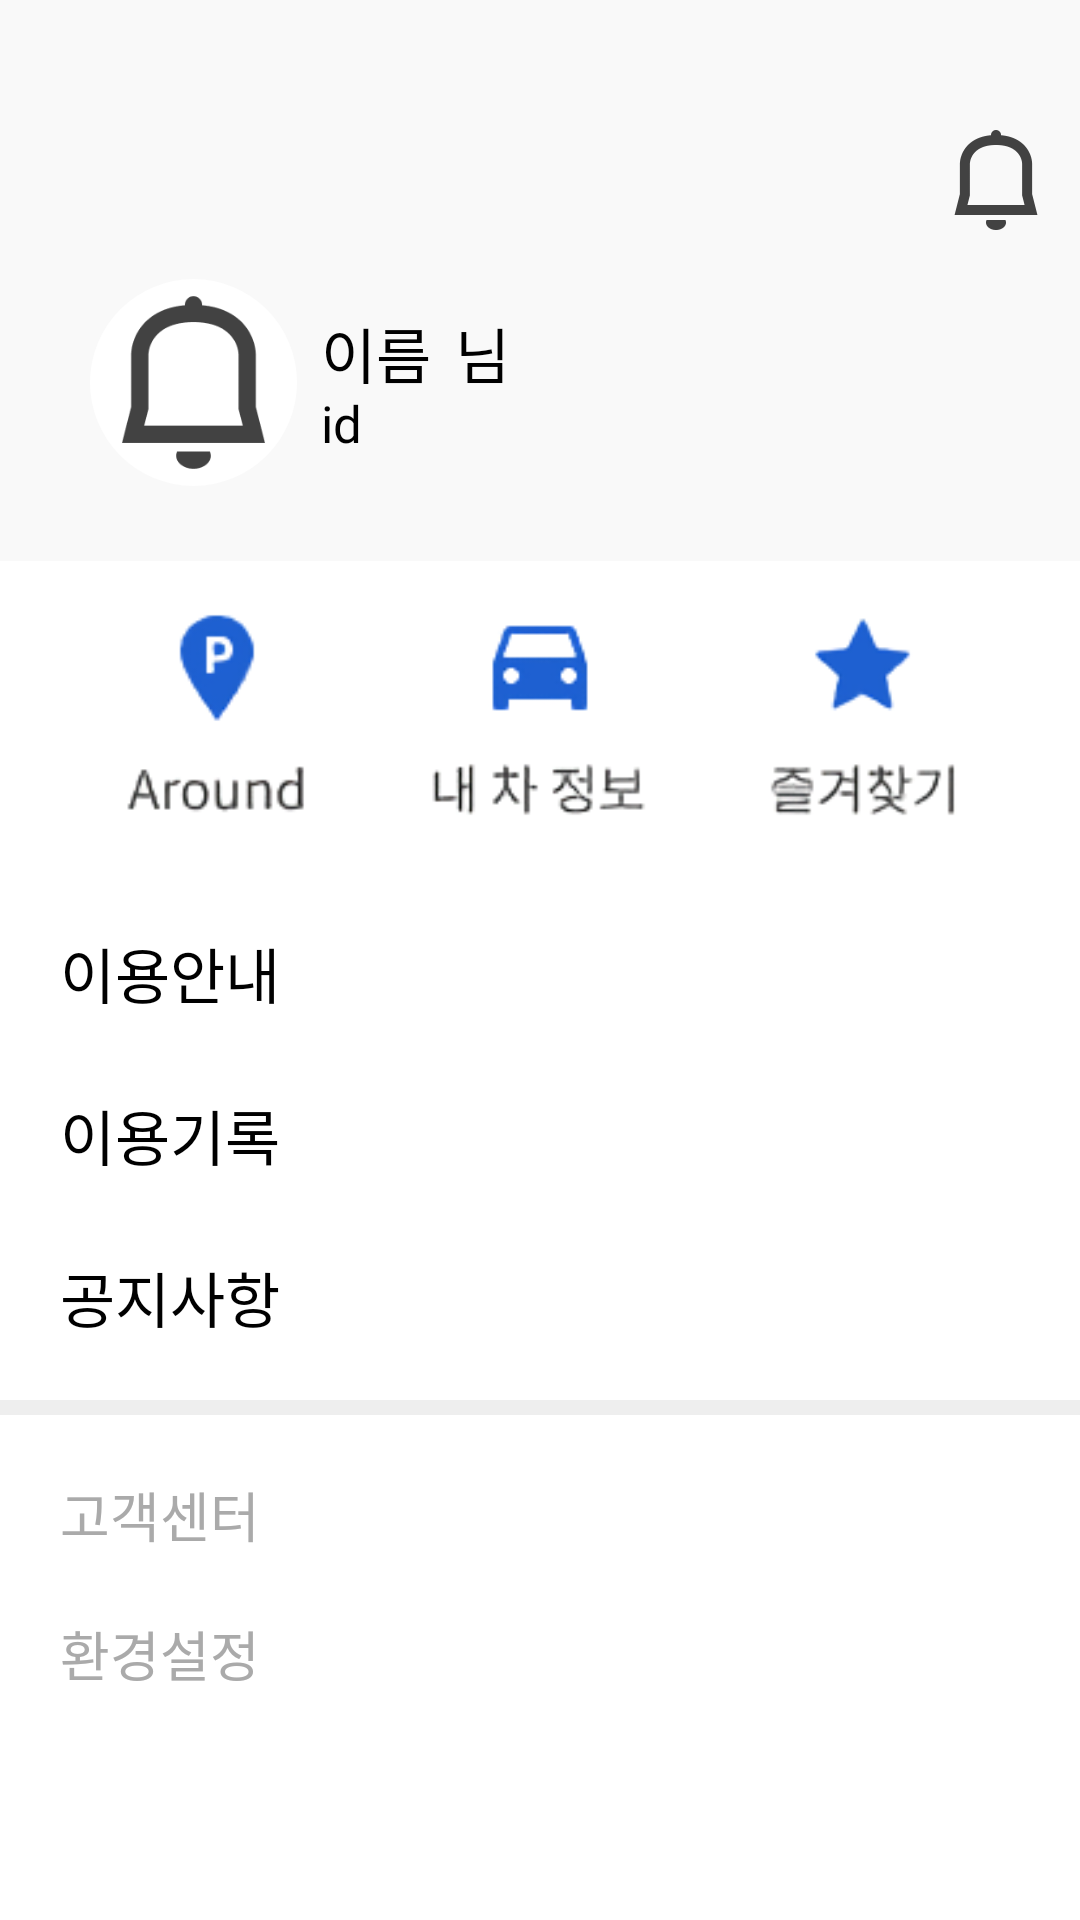

Where to tap for icons on this 1080*1920 app screen, as point (x, y):
bell: point (996, 180), point (193, 382)
